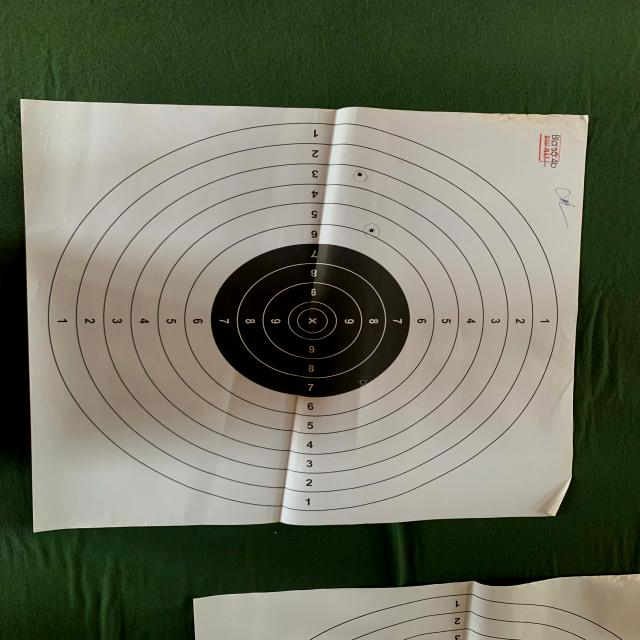bullet: (368, 228, 376, 232), (360, 380, 367, 384), (357, 172, 362, 176)
target: (20, 100, 588, 528)
